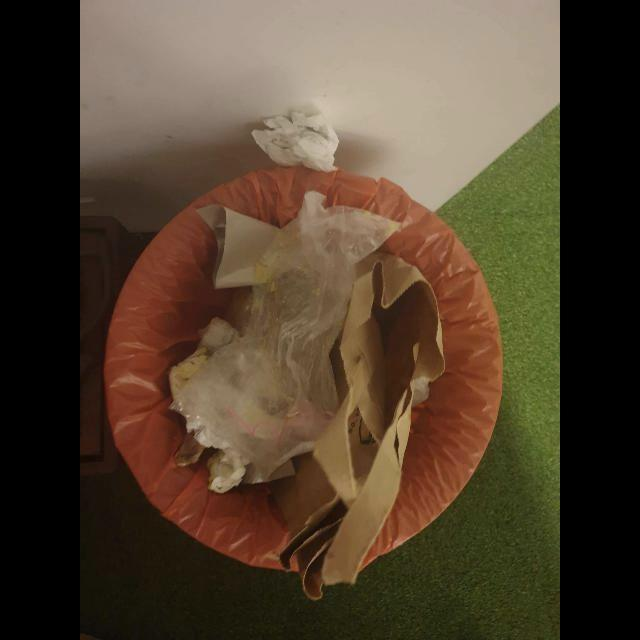paper: (268, 255, 446, 601), (196, 204, 278, 291), (250, 107, 340, 174)
plastic_bag: (169, 191, 401, 495)
